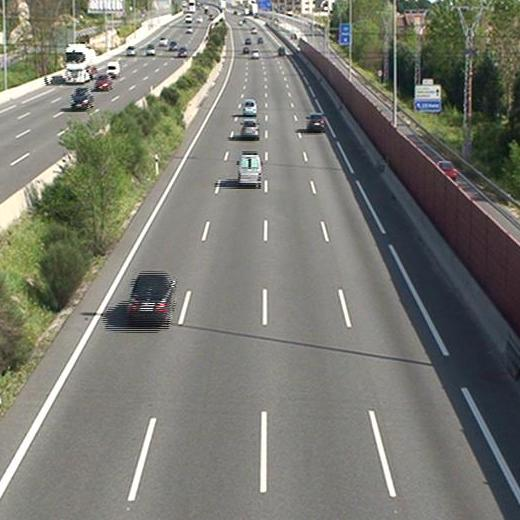car: (126, 274, 175, 321), (240, 119, 259, 137), (307, 114, 324, 132), (242, 99, 258, 115), (250, 48, 260, 59), (277, 46, 286, 54)
van: (237, 154, 262, 185)
